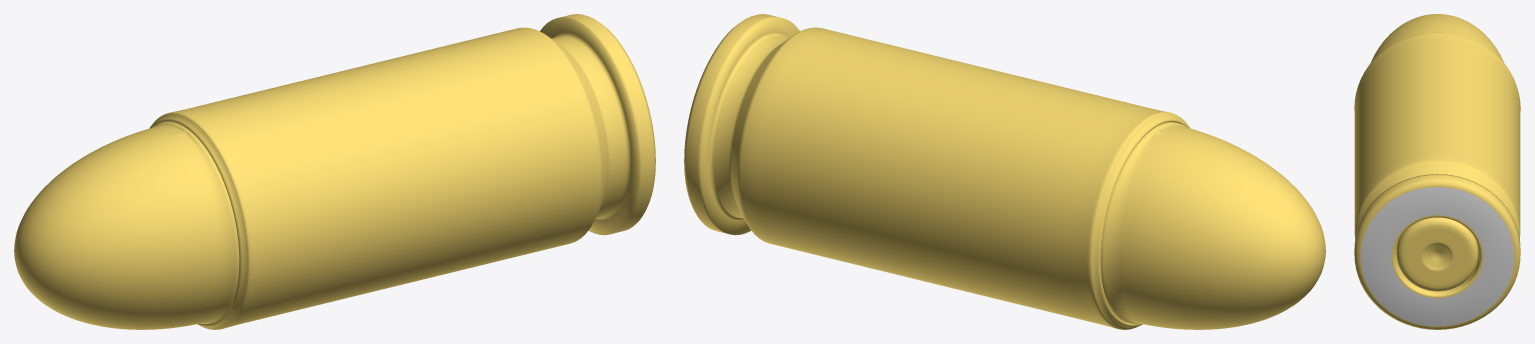
Rendered from Douille-9mm.fbx.
The picture shows the model from 3 angles, left to right: view 1: azimuth 30°, elevation 25°; view 2: azimuth 150°, elevation 25°; view 3: azimuth 270°, elevation 25°; orthographic projection. The views are drawn at different scales.
Parts seen in each view (by area): view 1: douille, balle; view 2: douille, balle; view 3: douille, balle.
Part boxes in pixels (x1,y1,x2,y2): douille: (149,14,655,329); balle: (14,122,239,329); douille: (684,14,1190,329); balle: (1100,122,1325,329); douille: (1354,32,1520,329); balle: (1370,14,1504,63).
Bounding box in the file's own units: 606 × 201 × 201.
